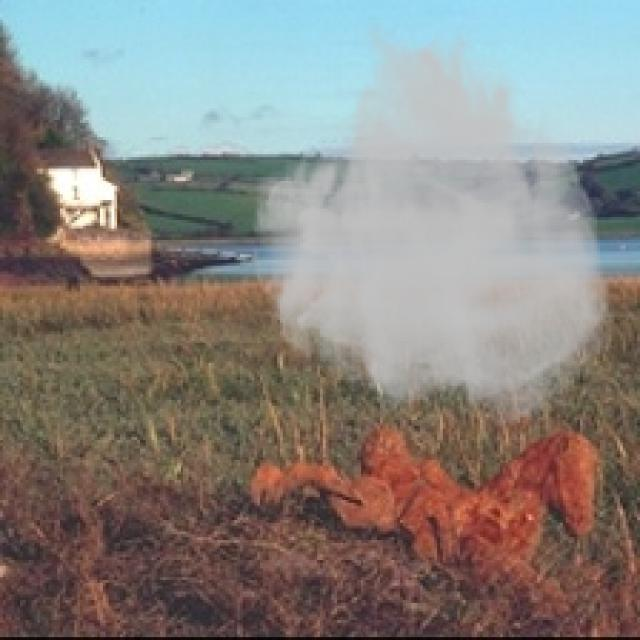Smoke: (248, 17, 618, 429)
